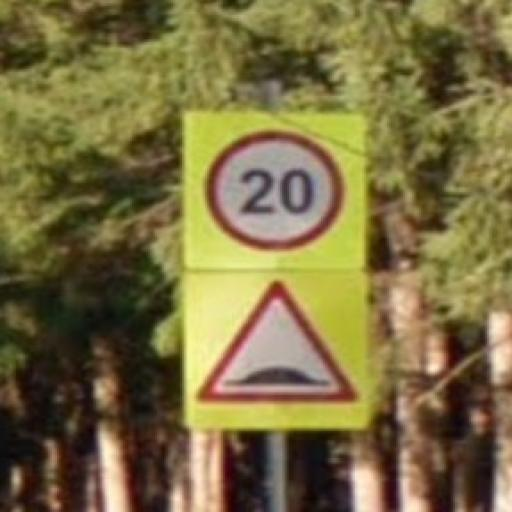traffic_sign: (194, 279, 361, 408), (204, 127, 347, 255)
